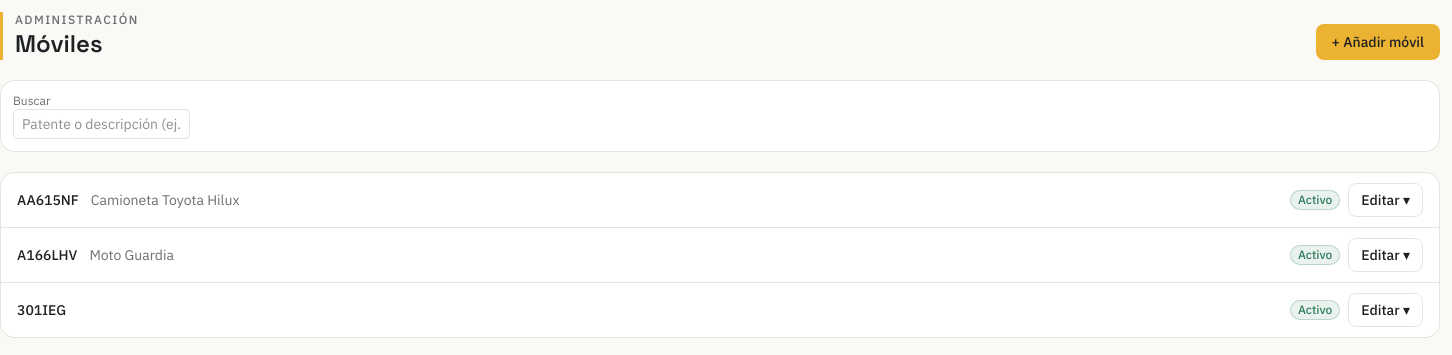
Test case: MovilesAdminPage › búsqueda por patente y descripción › también se puede filtrar por el tipo de vehículo
Type "moto" into the field named "Buscar móvil".
click(102, 124); type("moto")  # box [13,109,190,139]
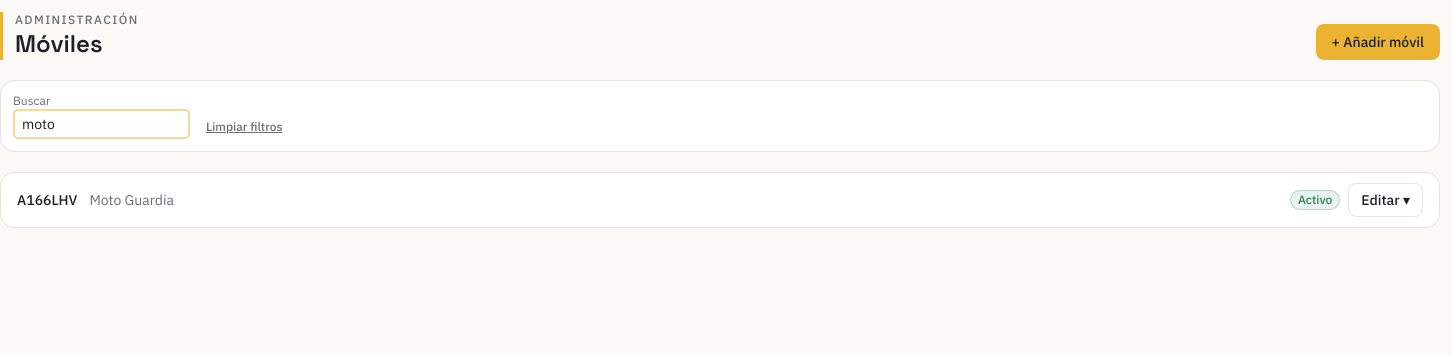
Expected: the text "A166LHV" is shown, [17,190,77,210]
Expected: the text "AA615NF" is gone
